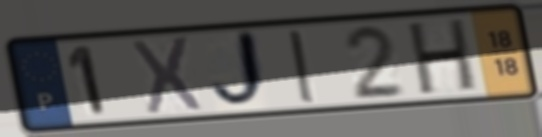1: (64, 43, 109, 118)
2: (341, 23, 407, 103)
H: (406, 15, 480, 98)
I: (284, 27, 321, 106)
J: (208, 26, 274, 114)
X: (128, 33, 206, 117)
